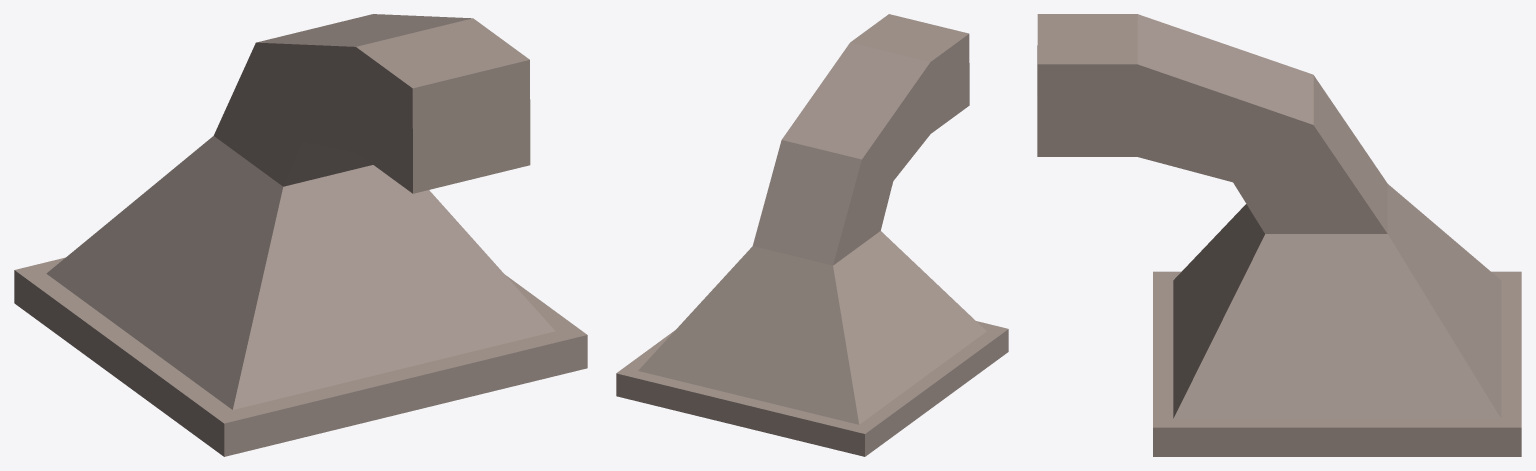
Rendered from chimney.fbx.
The picture shows the model from 3 angles, left to right: view 1: azimuth 30°, elevation 25°; view 2: azimuth 150°, elevation 25°; view 3: azimuth 270°, elevation 25°; orthographic projection. The views are drawn at different scales.
Parts seen in each view (by area): view 1: chimney; view 2: chimney; view 3: chimney.
Part boxes in pixels (x1=…): chimney: x1=14, y1=14, x2=587, y2=456; chimney: x1=616, y1=14, x2=1008, y2=456; chimney: x1=1037, y1=14, x2=1521, y2=456.
Bounding box in the file's own units: 2.28 × 2.31 × 2.99.
